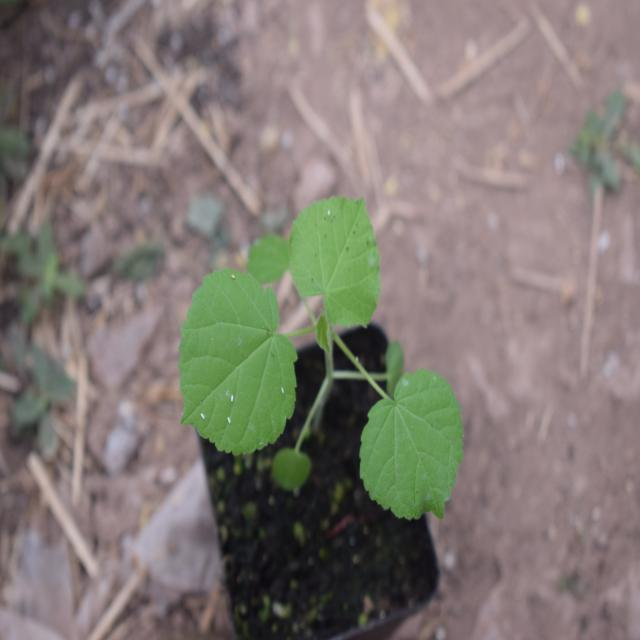abutilon theophrasti: (164, 186, 477, 540)
